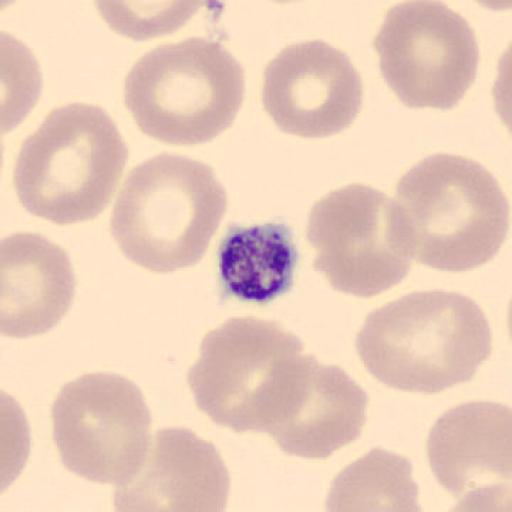Platelet: (214, 217, 302, 306)
RBC: (11, 98, 130, 228), (354, 286, 494, 396), (108, 150, 230, 275), (186, 314, 312, 434), (394, 150, 512, 275), (122, 34, 246, 148), (304, 180, 420, 300), (372, 0, 481, 114), (50, 369, 155, 487), (260, 354, 370, 460), (259, 37, 364, 141), (110, 424, 233, 512), (424, 399, 512, 504), (2, 230, 78, 340), (323, 444, 425, 512), (91, 0, 219, 42), (2, 28, 44, 136), (1, 388, 32, 495), (490, 39, 512, 141), (440, 481, 511, 512), (445, 0, 512, 11), (462, 0, 512, 11)
